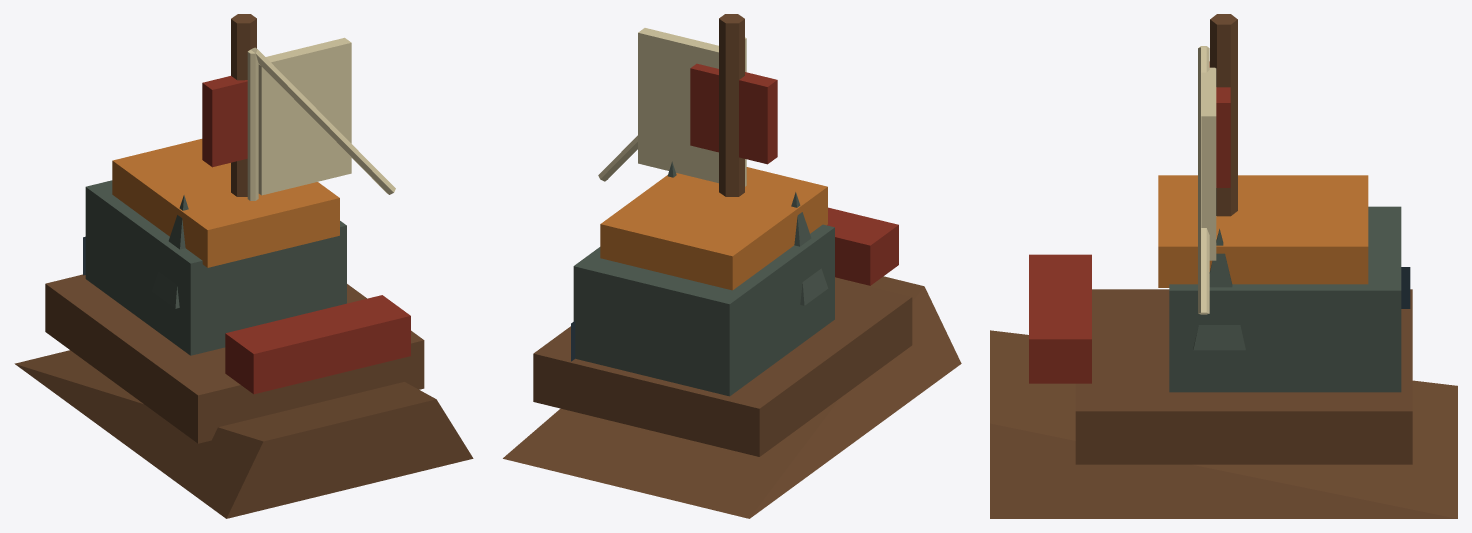
The model's file is transport-ship.obj.
3 views of the same model, side by side, from view 1: azimuth 30°, elevation 25°; view 2: azimuth 150°, elevation 25°; view 3: azimuth 270°, elevation 25° (orthographic). The views are drawn at different scales.
Visible parts, largest first — view 1: ship; view 2: ship; view 3: ship.
Part boxes in pixels (<box>): ship: <box>14,14,473,518</box>; ship: <box>503,14,961,518</box>; ship: <box>990,14,1457,518</box>.
Bounding box in the file's own units: 1.54 × 2.18 × 2.14.
